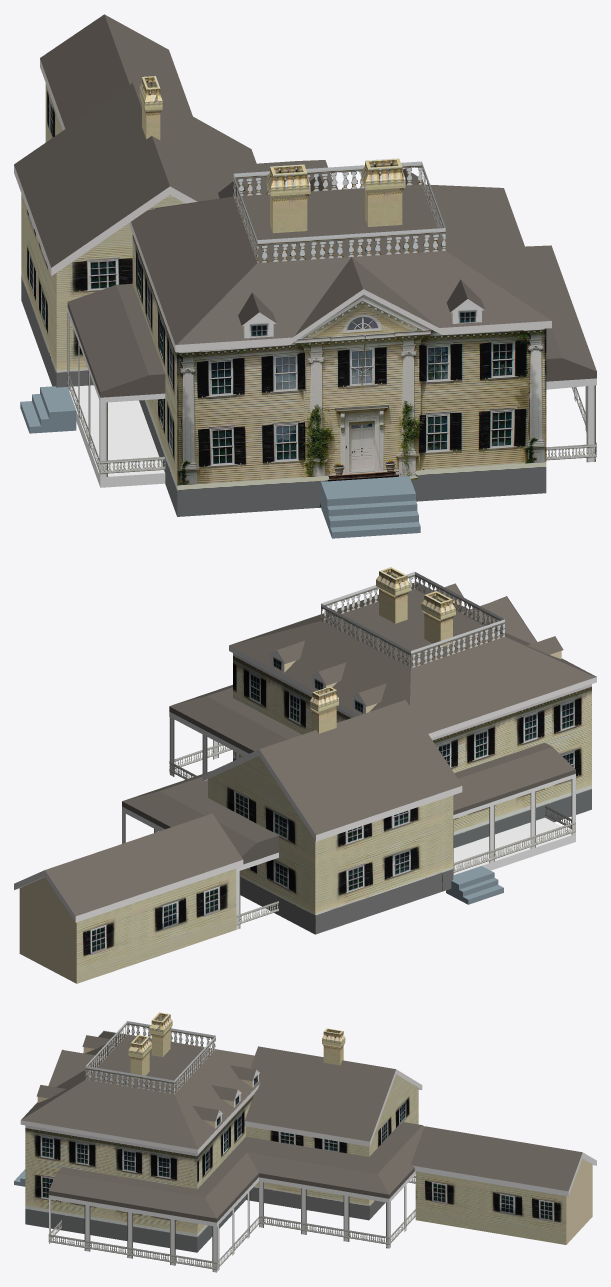
The model's file is LongfellowHouse.fbx.
3 renders of one model, top to bottom at view 1: azimuth 30°, elevation 25°; view 2: azimuth 150°, elevation 25°; view 3: azimuth 270°, elevation 25°, orthographic. The views are drawn at different scales.
Parts seen in each view (by area): view 1: Group4, Group3, Group12, Group13, Group11, Group15, Group16, Group5, Group2, Component_1_1, Component_1_2, Component_1_3 (+1 smaller); view 2: Group3, Group11, Group12, Group4, Group14, Group16, Group15, Group13, Group2, Component_1_2, Component_1_1, Component_1_3; view 3: Group16, Group3, Group4, Group12, Group14, Group15, Group11, Group2, Component_1_1, Component_1_2, Component_1_3.
Boxes of the visible parts, <box> form: Group4: <box>132,234,546,516</box>; Group3: <box>131,161,551,344</box>; Group12: <box>14,83,266,275</box>; Group13: <box>20,283,165,487</box>; Group11: <box>21,194,185,387</box>; Group15: <box>40,14,192,130</box>; Group16: <box>257,160,596,462</box>; Group5: <box>321,476,420,538</box>; Group2: <box>129,222,551,352</box>; Component_1_1: <box>266,164,310,233</box>; Component_1_2: <box>361,158,405,226</box>; Component_1_3: <box>139,76,162,139</box>; Group3: <box>229,572,595,733</box>; Group11: <box>208,756,453,934</box>; Group12: <box>202,700,462,841</box>; Group4: <box>233,653,591,847</box>; Group14: <box>19,869,236,983</box>; Group16: <box>122,685,301,929</box>; Group15: <box>14,813,243,922</box>; Group13: <box>446,743,575,904</box>; Group2: <box>229,582,596,738</box>; Component_1_2: <box>376,567,410,623</box>; Component_1_1: <box>421,591,455,646</box>; Component_1_3: <box>310,686,338,733</box>; Group16: <box>48,1122,424,1272</box>; Group3: <box>21,1021,260,1149</box>; Group4: <box>25,1093,254,1252</box>; Group12: <box>244,1046,422,1146</box>; Group14: <box>415,1158,592,1244</box>; Group15: <box>411,1126,596,1196</box>; Group11: <box>246,1074,418,1220</box>; Group2: <box>20,1030,259,1153</box>; Component_1_1: <box>149,1012,172,1056</box>; Component_1_2: <box>128,1035,151,1079</box>; Component_1_3: <box>322,1028,345,1065</box>.
Bounding box in the file's own units: 27.9 × 15.37 × 47.62.
